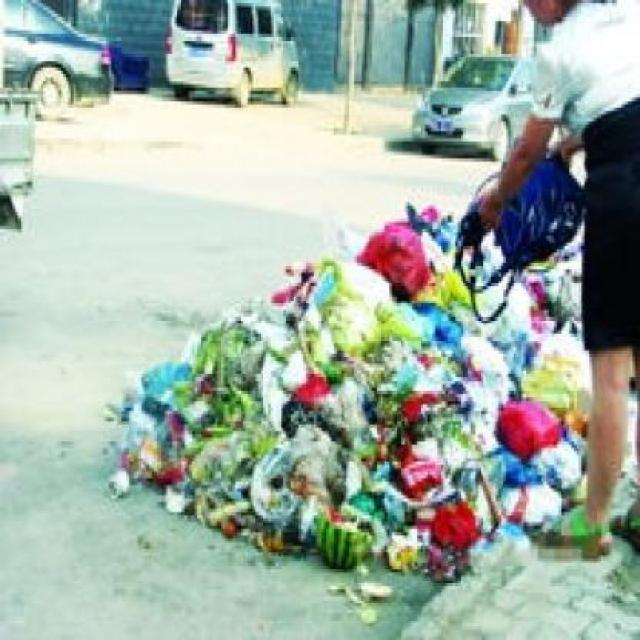garbage: (117, 311, 510, 574), (311, 203, 574, 503)
